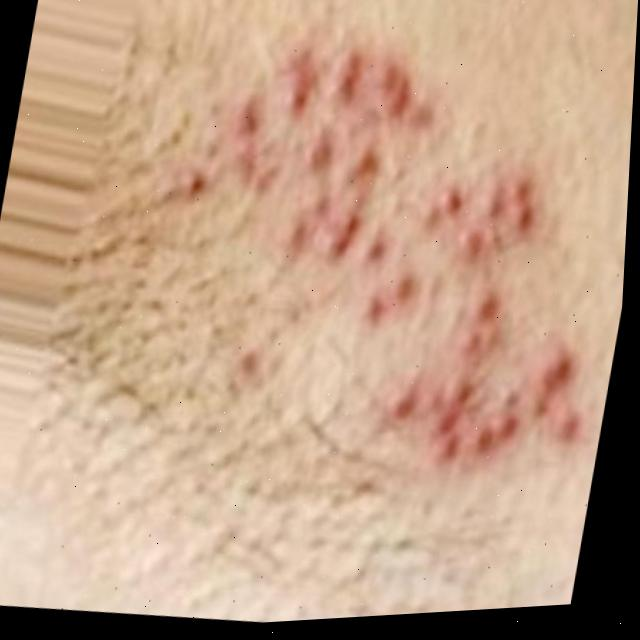Shingles: (137, 2, 638, 496)
